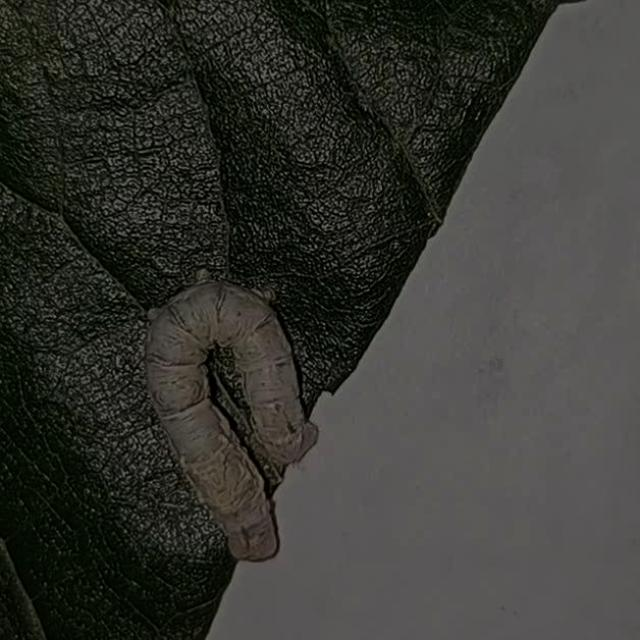Healthy: (79, 204, 386, 589)
